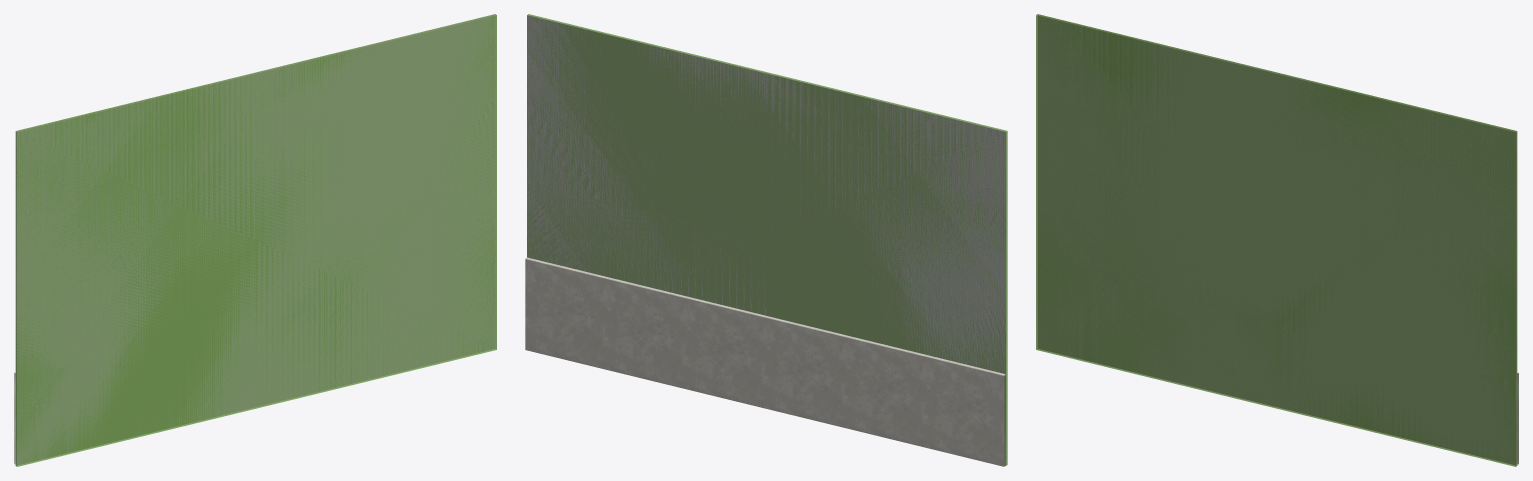
The model's file is F9_md_Wall_4x6_01.fbx.
The picture shows the model from 3 angles, left to right: view 1: azimuth 30°, elevation 25°; view 2: azimuth 150°, elevation 25°; view 3: azimuth 330°, elevation 25°; orthographic projection.
Visible parts, largest first — view 1: F9_md_Wall_4x6_WL_01_col_1, F9_md_Wall_4x6_01_LOD0; view 2: F9_md_Wall_4x6_01_LOD0, F9_md_Wall_4x6_WL_01_col_1; view 3: F9_md_Wall_4x6_WL_01_col_1, F9_md_Wall_4x6_01_LOD0.
Part boxes in pixels (box(x1,y1,x2,y2)): F9_md_Wall_4x6_WL_01_col_1: box(15, 14, 496, 466); F9_md_Wall_4x6_01_LOD0: box(14, 14, 495, 465); F9_md_Wall_4x6_01_LOD0: box(525, 15, 1005, 466); F9_md_Wall_4x6_WL_01_col_1: box(527, 14, 1007, 465); F9_md_Wall_4x6_WL_01_col_1: box(1036, 14, 1517, 466); F9_md_Wall_4x6_01_LOD0: box(1037, 14, 1518, 465).
Size of what is drawn, in the model's own units: 600 by 400 by 6.83.
